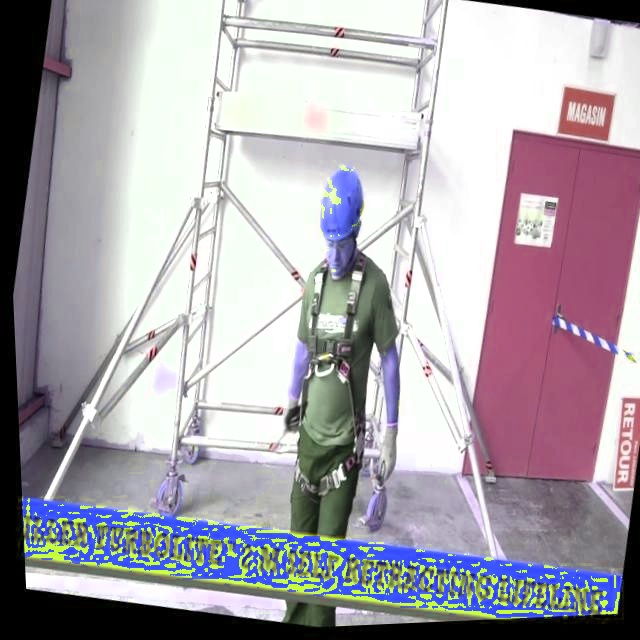safety belt: (299, 277, 379, 511)
